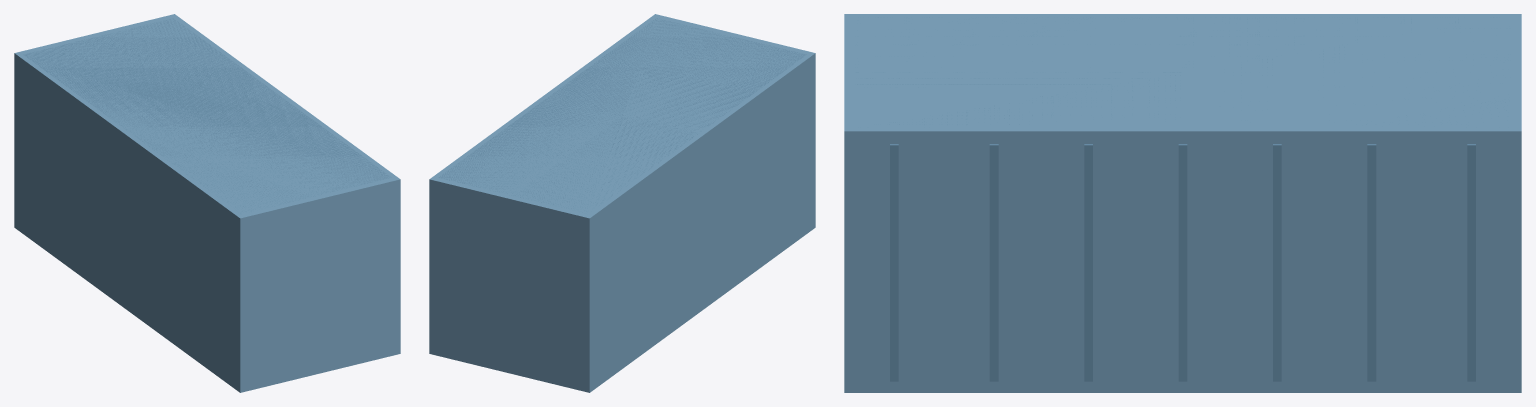
The model's file is container_lod1.glb.
The picture shows the model from 3 angles, left to right: view 1: azimuth 30°, elevation 25°; view 2: azimuth 150°, elevation 25°; view 3: azimuth 270°, elevation 25°; orthographic projection. The views are drawn at different scales.
Visible parts, largest first — view 1: container-node-0, container-node-8; view 2: container-node-0, container-node-8; view 3: container-node-0, container-node-2, container-node-4, container-node-6, container-node-1, container-node-3, container-node-5, container-node-7.
Boxes of the visible parts, x1,y1,x2,y2 form: container-node-0: [14, 14, 400, 392]; container-node-8: [23, 18, 391, 213]; container-node-0: [429, 14, 815, 392]; container-node-8: [438, 18, 806, 212]; container-node-0: [844, 14, 1521, 392]; container-node-2: [1367, 144, 1376, 381]; container-node-4: [1178, 144, 1187, 381]; container-node-6: [989, 144, 998, 381]; container-node-1: [1467, 144, 1475, 381]; container-node-3: [1273, 144, 1281, 381]; container-node-5: [1084, 144, 1092, 381]; container-node-7: [890, 144, 898, 381].
Size of the model in its own units: 2.53 by 2.6 by 6.1.
